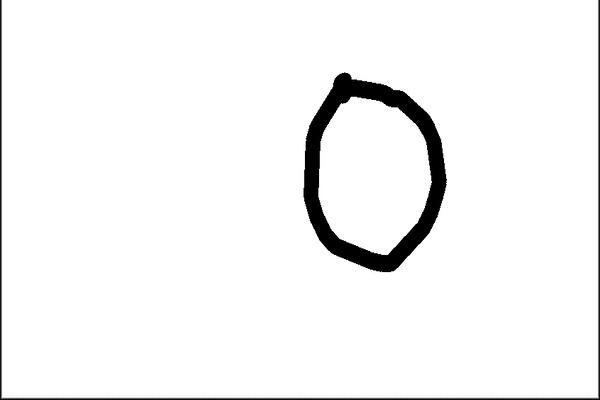O: (284, 57, 455, 281)
